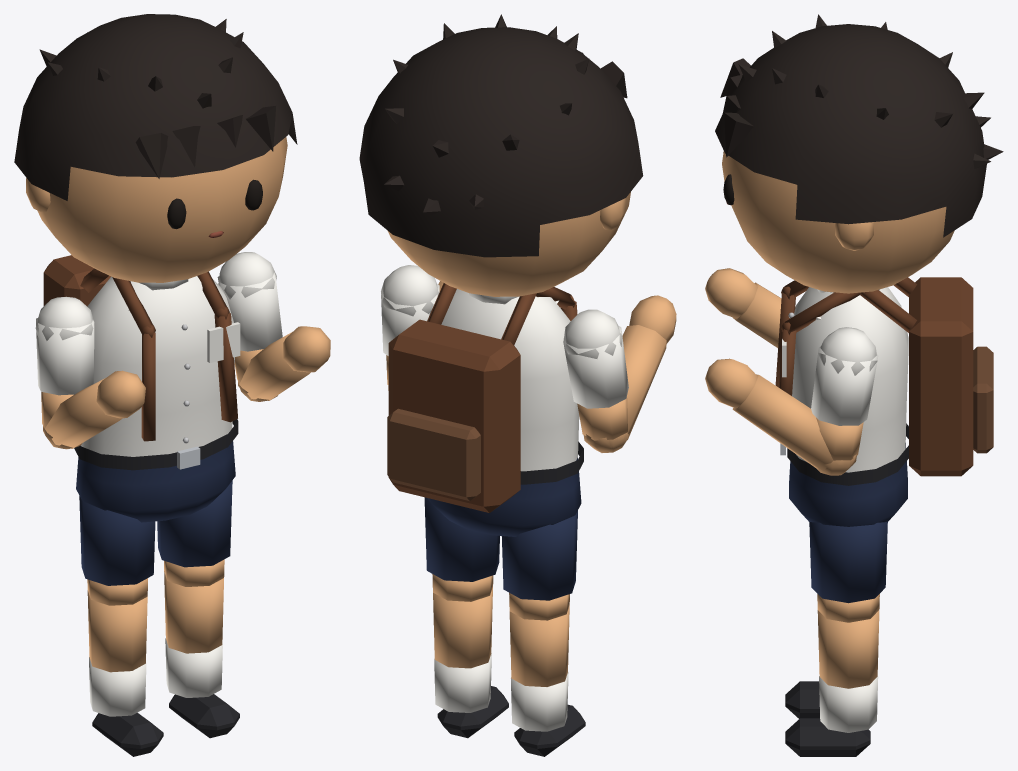
File: schoolboy.glb
3 views of the same model, side by side, from view 1: azimuth 30°, elevation 25°; view 2: azimuth 150°, elevation 25°; view 3: azimuth 270°, elevation 25° (orthographic).
Parts seen in each view (by area): view 1: head, body, shin_R, shin_L, leg_R, arm_R, leg_L, arm_L, forearm_R, forearm_L; view 2: head, body, shin_L, shin_R, arm_R, leg_R, leg_L, forearm_R, arm_L; view 3: head, body, shin_L, arm_L, leg_L, forearm_L, forearm_R, shin_R.
Part boxes in pixels (x1,y1,x2,y2): head: [14, 14, 297, 282]; body: [43, 255, 240, 522]; shin_R: [87, 590, 163, 756]; shin_L: [164, 571, 239, 738]; leg_R: [79, 496, 155, 605]; arm_R: [35, 296, 94, 449]; leg_L: [157, 480, 232, 586]; arm_L: [217, 252, 282, 401]; forearm_R: [43, 370, 145, 448]; forearm_L: [238, 326, 330, 400]; head: [359, 14, 643, 296]; body: [387, 283, 583, 536]; shin_L: [433, 587, 508, 738]; shin_R: [509, 605, 585, 756]; arm_R: [563, 309, 628, 452]; leg_R: [501, 510, 577, 620]; leg_L: [424, 497, 499, 601]; forearm_R: [586, 295, 676, 451]; arm_L: [381, 265, 439, 390]; head: [715, 14, 1003, 293]; body: [775, 277, 993, 526]; shin_L: [785, 610, 879, 756]; arm_L: [811, 327, 878, 475]; leg_L: [809, 522, 887, 622]; forearm_L: [705, 358, 856, 473]; forearm_R: [705, 268, 781, 347]; shin_R: [785, 681, 819, 718].
Bounding box in the file's own units: 0.4879 × 1.31 × 0.5109.
